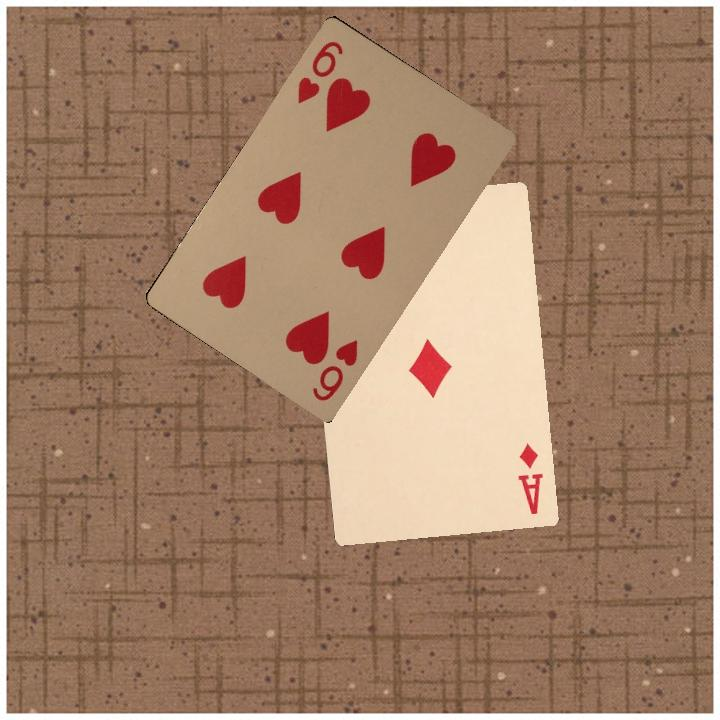6h: (293, 36, 346, 105), (308, 335, 361, 404)
Ad: (513, 439, 546, 517)
